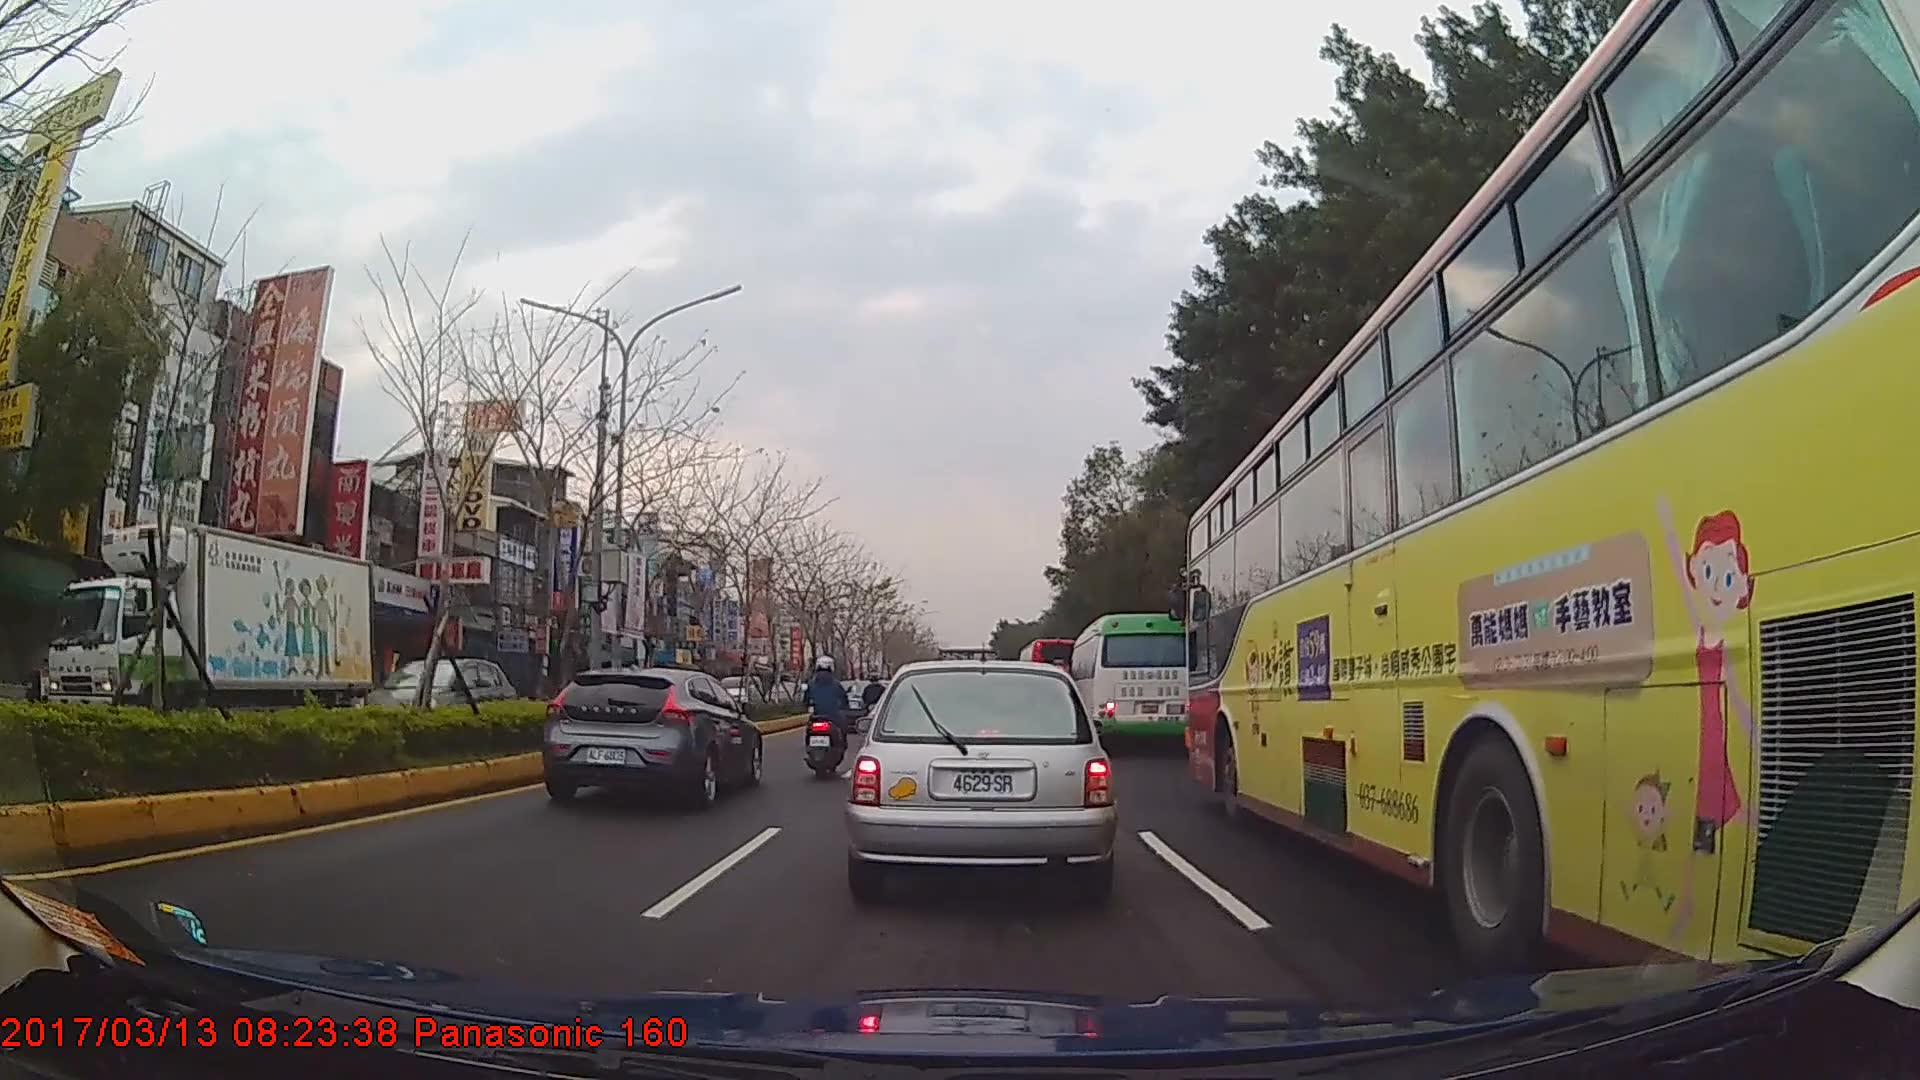rider: (804, 658, 853, 769), (863, 676, 889, 742)
vehicle: (1187, 0, 1920, 1024), (45, 521, 374, 744), (845, 656, 1113, 907), (542, 667, 764, 809), (1069, 614, 1194, 755), (352, 655, 513, 746), (1015, 639, 1083, 712)
